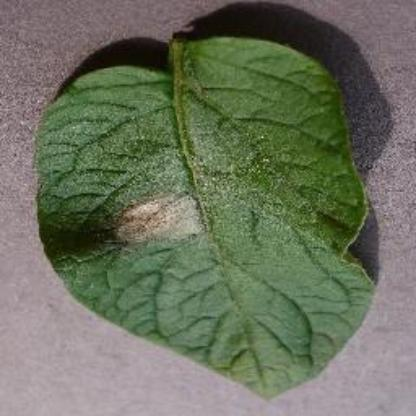Late-Blight: (23, 22, 401, 409)
